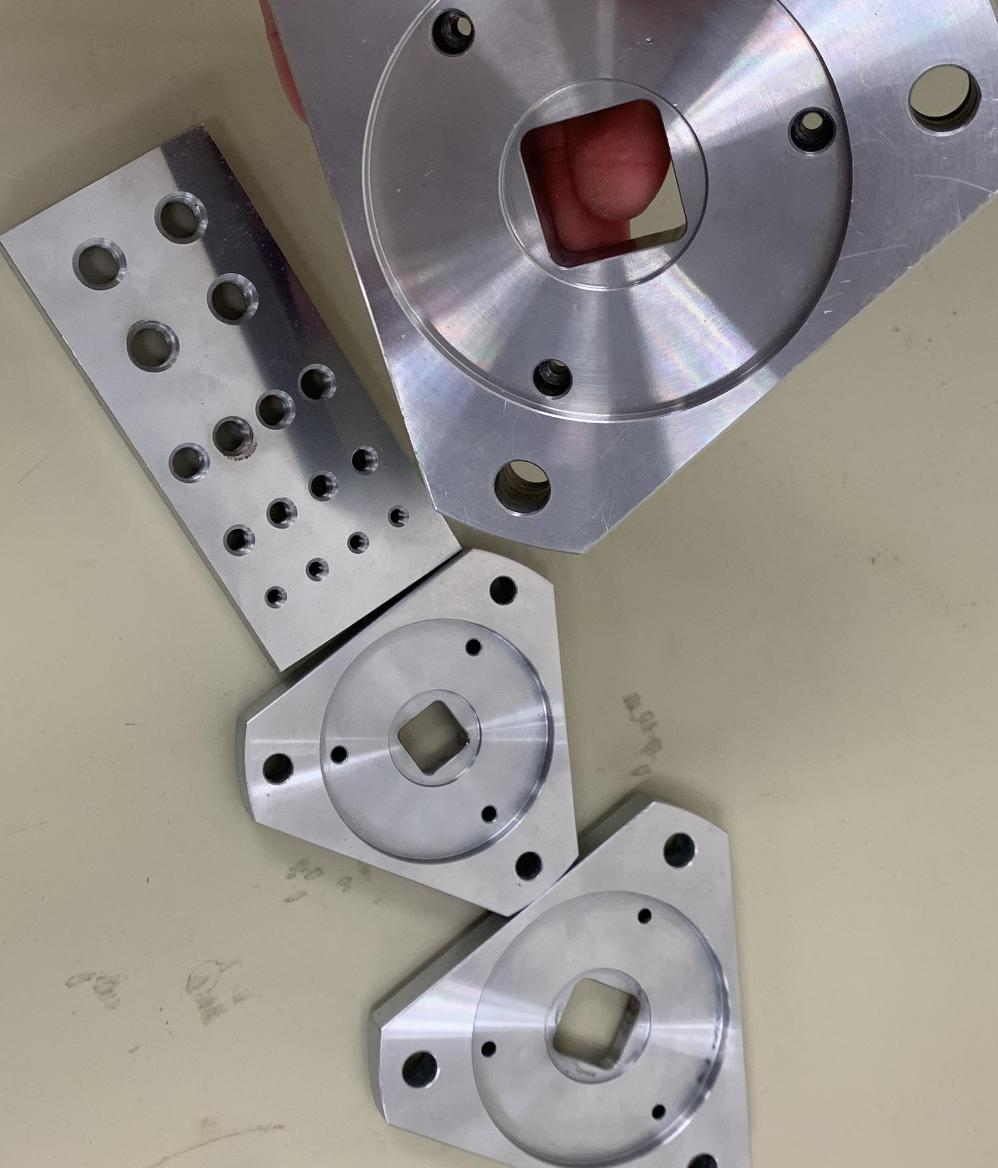hole: (893, 41, 997, 158), (472, 452, 566, 522), (200, 264, 270, 338), (66, 229, 138, 299), (115, 316, 189, 380), (148, 189, 216, 257), (424, 2, 494, 66), (516, 343, 587, 406), (787, 94, 839, 158), (294, 356, 348, 414), (162, 432, 214, 492), (212, 409, 260, 467), (391, 1048, 449, 1094), (479, 565, 525, 619), (251, 388, 297, 440), (257, 748, 305, 792), (500, 848, 558, 884), (215, 517, 261, 561), (346, 442, 388, 486), (658, 828, 702, 870), (261, 492, 299, 532), (306, 468, 344, 508), (300, 553, 340, 587), (342, 531, 380, 561), (326, 739, 354, 779), (260, 582, 294, 614), (679, 1148, 730, 1168), (390, 501, 414, 538), (459, 636, 491, 662), (475, 1040, 507, 1062), (476, 800, 502, 826), (634, 902, 654, 930), (648, 1100, 670, 1122)
